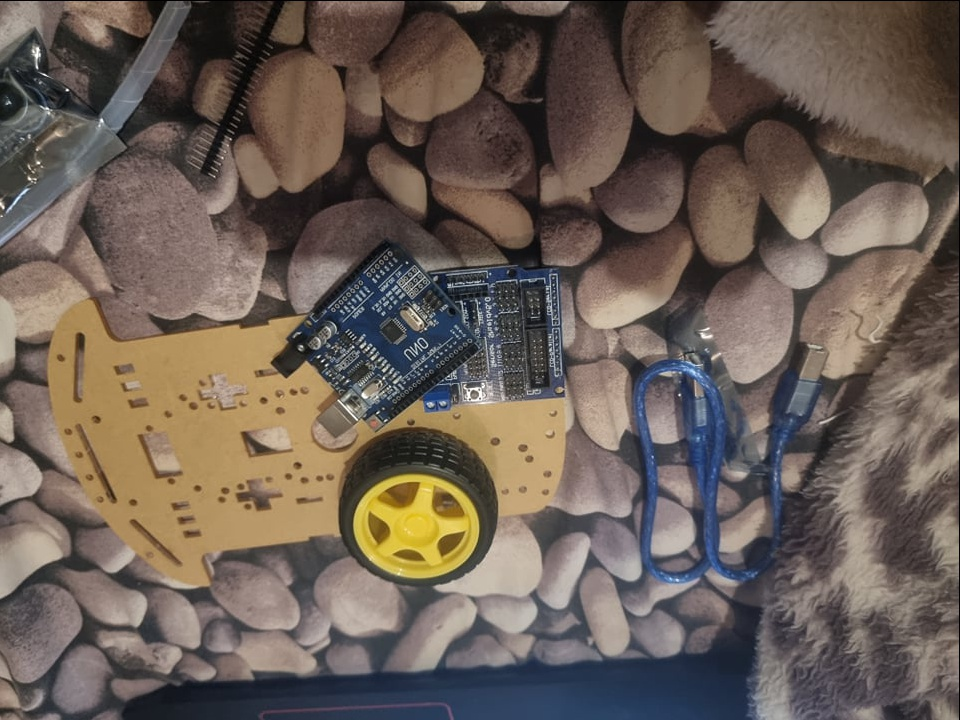5V EXPANSION: (422, 266, 566, 413)
UNO R3: (272, 240, 482, 435)
